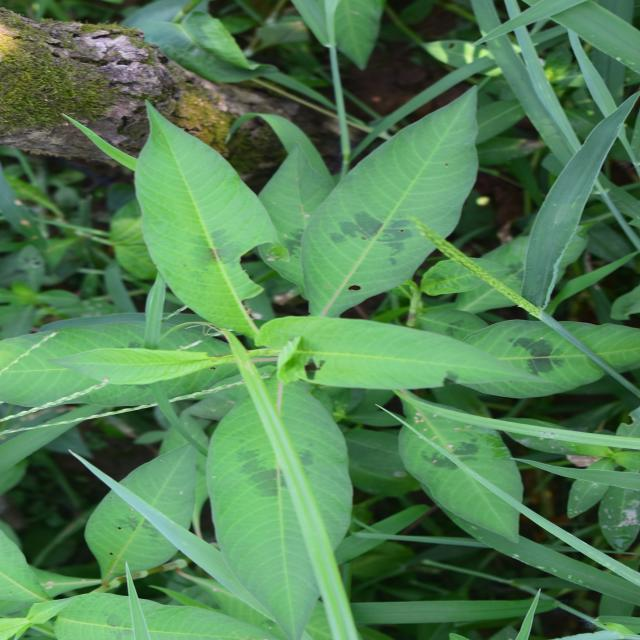Chinese_knotweed: (119, 99, 504, 481)
